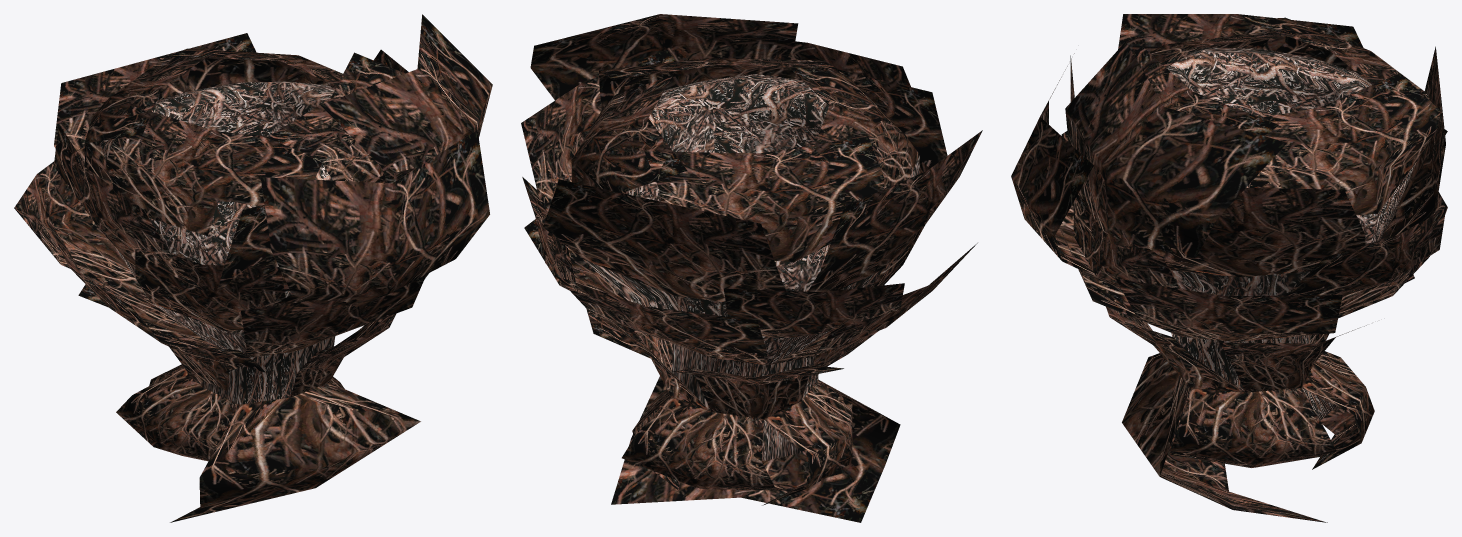
File: poi_all_lair_thicket_large_l0.fbx
The picture shows the model from 3 angles, left to right: view 1: azimuth 30°, elevation 25°; view 2: azimuth 150°, elevation 25°; view 3: azimuth 270°, elevation 25°; orthographic projection. The views are drawn at different scales.
Visible parts, largest first — view 1: mesh_node; view 2: mesh_node; view 3: mesh_node.
Boxes of the visible parts, x1,y1,x2,y2 form: mesh_node: [14, 14, 492, 522]; mesh_node: [521, 14, 982, 522]; mesh_node: [1011, 14, 1447, 522].
Bounding box in the file's own units: 5.23 × 5.06 × 4.48.
